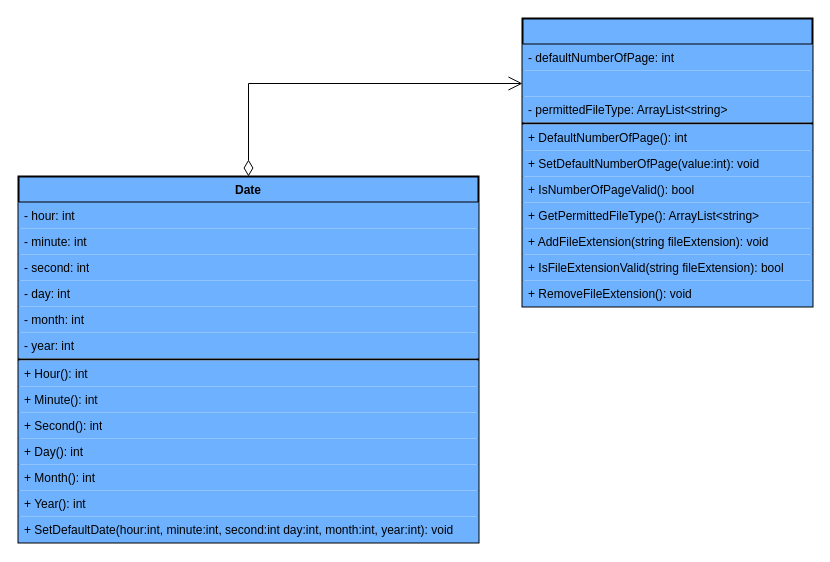
Image size: 830x562. Some labels were removed from this diagram. The box of each missing label's shape, as (x1, y1, x2, y2) in pixels:
+ defaultDate: Date: (522, 70, 812, 96)
SystemSetting: (521, 17, 813, 307)
